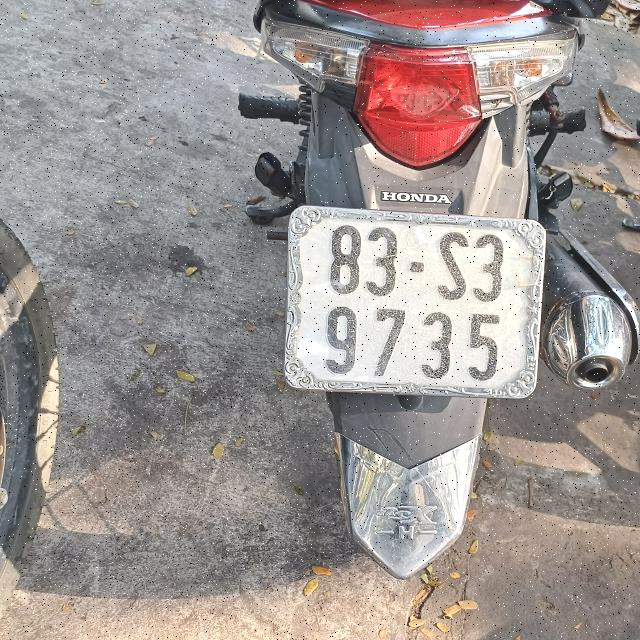3: (366, 224, 399, 299), (421, 311, 452, 379)
5: (468, 313, 501, 384)
7: (368, 306, 408, 378)
8: (328, 222, 362, 295)
9: (322, 304, 360, 372)
S: (435, 233, 470, 303), (472, 236, 506, 304)
